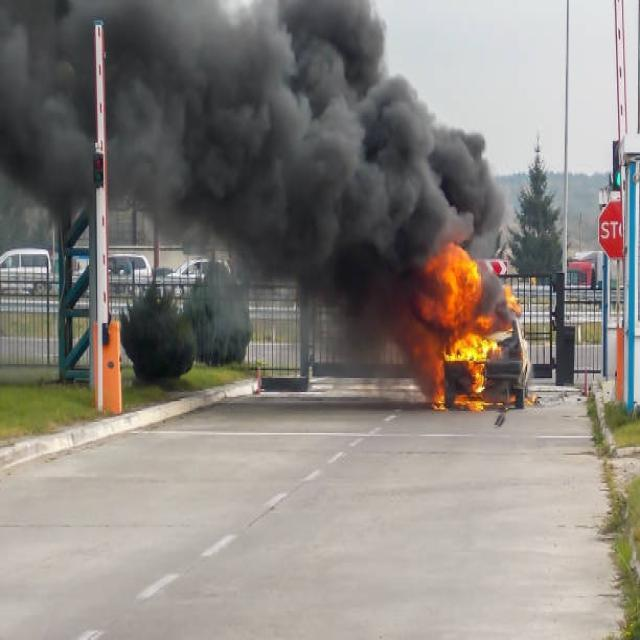Fire: (408, 239, 521, 410)
Smoke: (0, 0, 506, 373)
